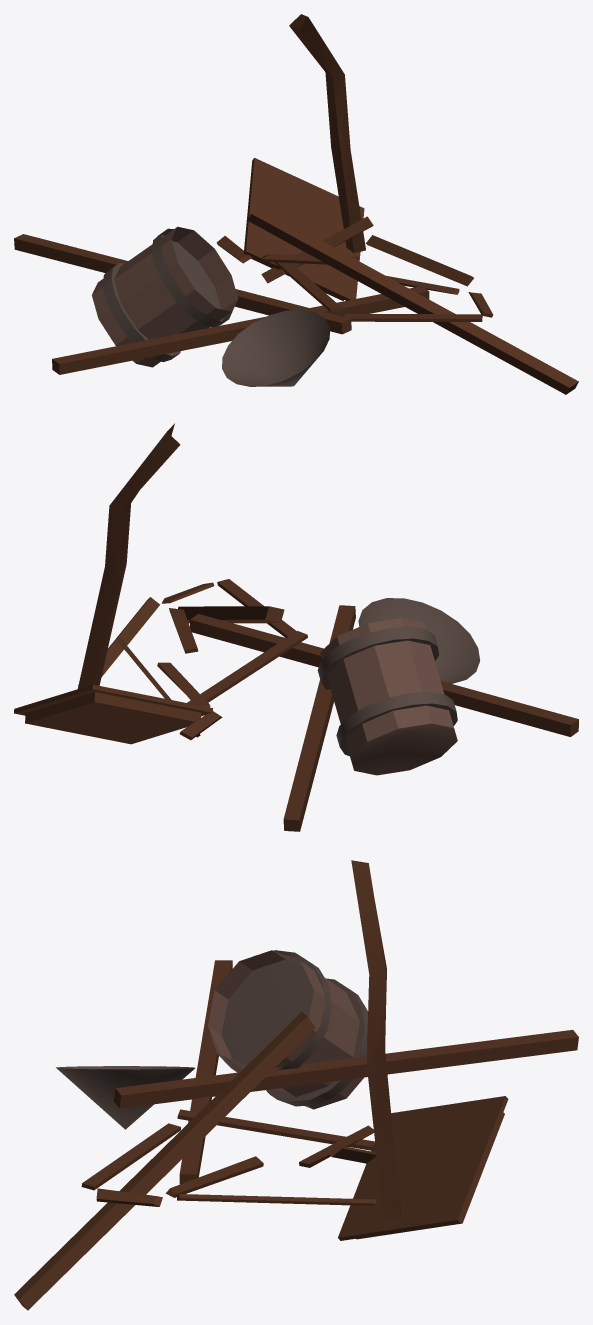
File: Water Tower Destroyed.fbx
The picture shows the model from 3 angles, top to bottom: view 1: azimuth 30°, elevation 25°; view 2: azimuth 150°, elevation 25°; view 3: azimuth 270°, elevation 25°; orthographic projection. The views are drawn at different scales.
Visible parts, largest first — view 1: polySurface753; view 2: polySurface753; view 3: polySurface753.
Boxes of the visible parts, x1,y1,x2,y2 form: polySurface753: (14,14,578,394); polySurface753: (14,423,578,831); polySurface753: (14,860,578,1310).
Bounding box in the file's own units: 43.17 × 28.98 × 39.7.
